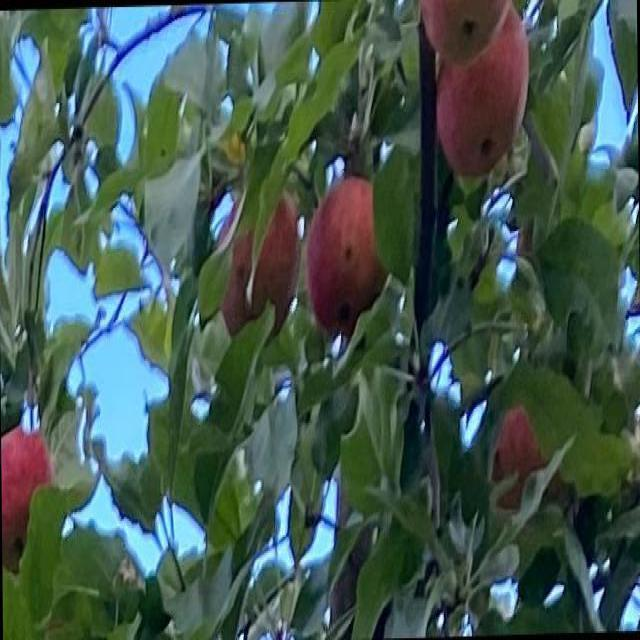Apple: (437, 1, 528, 172), (306, 176, 388, 336), (218, 190, 301, 340), (2, 424, 54, 570), (420, 0, 512, 66), (493, 404, 551, 499)
